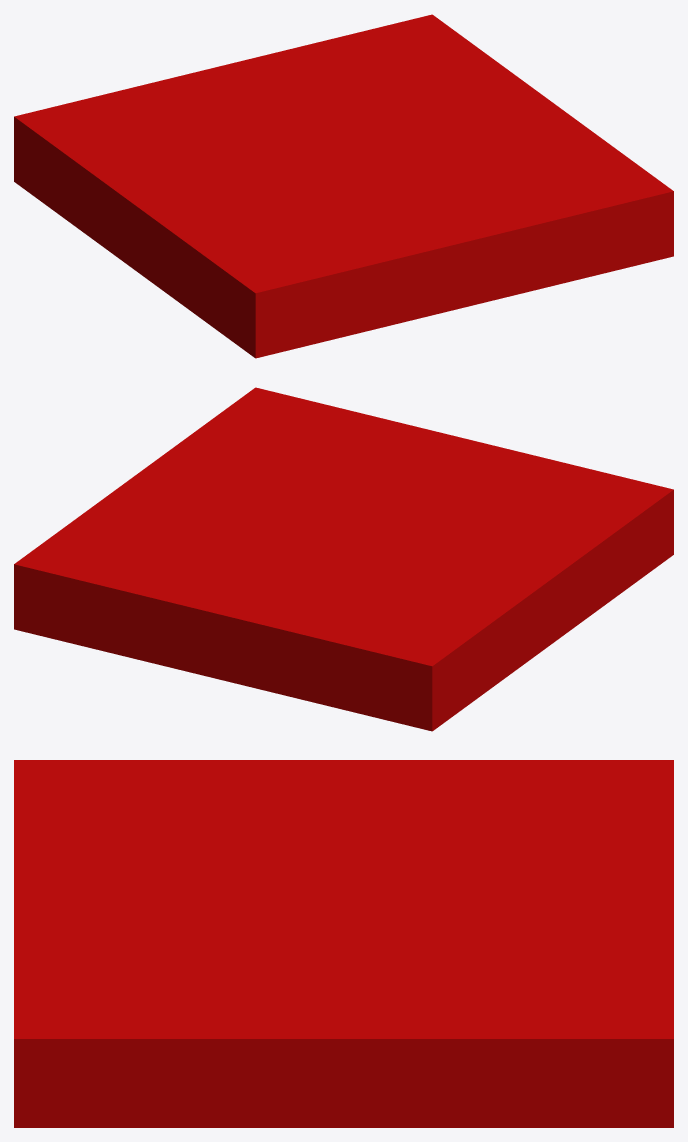
The model's file is Spot.fbx.
3 views of the same model, one above another, from view 1: azimuth 30°, elevation 25°; view 2: azimuth 150°, elevation 25°; view 3: azimuth 270°, elevation 25° (orthographic). The views are drawn at different scales.
Visible parts, largest first — view 1: Cube; view 2: Cube; view 3: Cube.
Boxes of the visible parts, x1=… form: Cube: x1=14, y1=14, x2=673, y2=358; Cube: x1=14, y1=387, x2=673, y2=731; Cube: x1=14, y1=760, x2=673, y2=1127.
Bounding box in the file's own units: 21.5 × 3.2 × 21.5.
